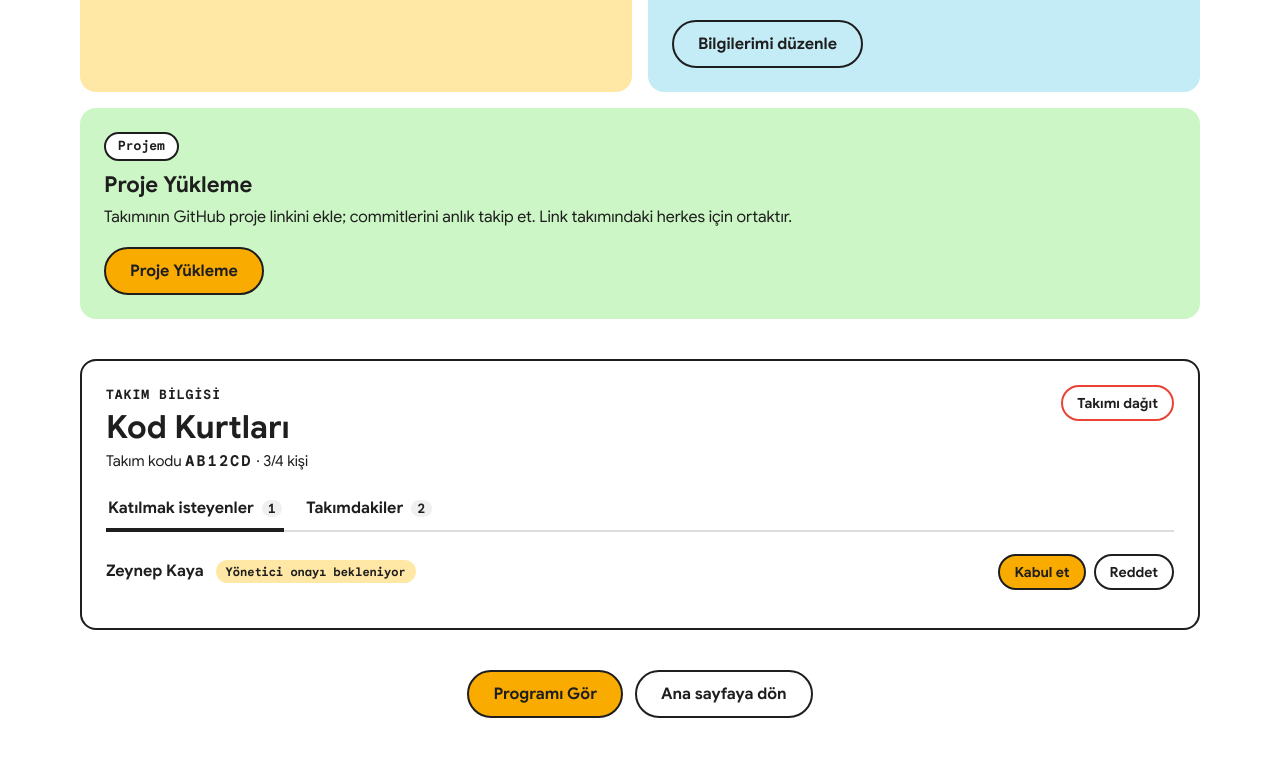
Test: Başvurum sayfası: yönetici izinleri kapalıyken › işlem sırasında takım kilitlenirse güncel izinler yüklenir ve düğmeler kalkar
This screenshot has width=1280, height=782.
(page scrolled)
Click the button "Takımı dağıt".
click(1118, 403)  # box left=1061, top=385, right=1174, bottom=421
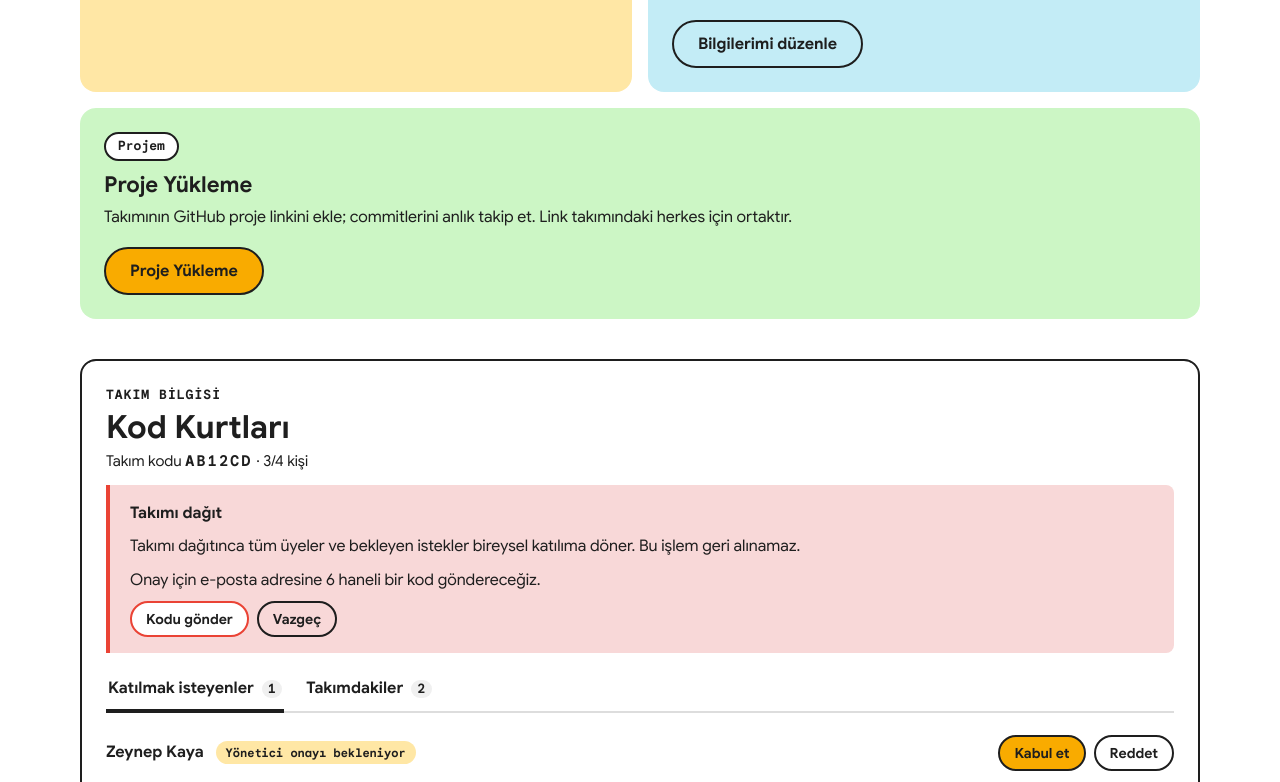
Click the button "Kodu gönder".
click(189, 620)  # box left=130, top=602, right=249, bottom=638
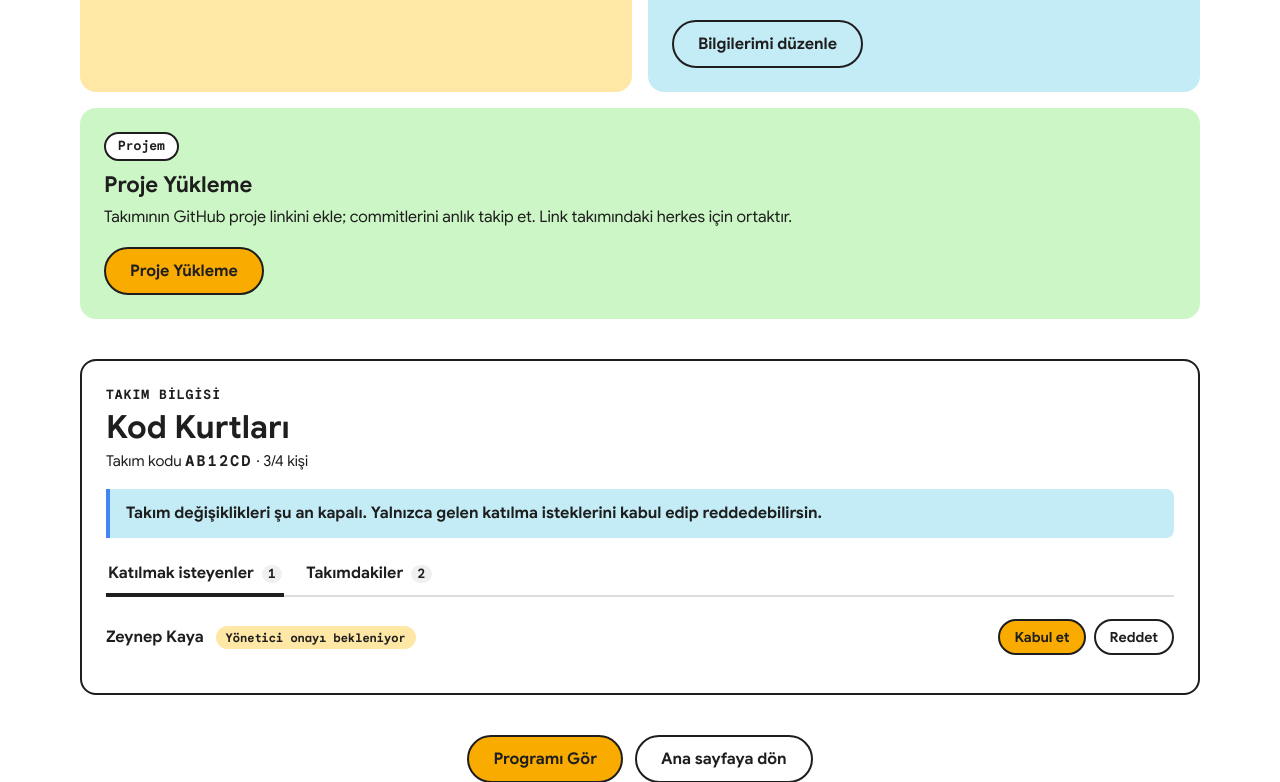
Check: the text "Takım değişiklikleri şu an kapalı" is shown, box left=126, top=503, right=822, bottom=523
Check: the text "Takımı dağıt" is gone
